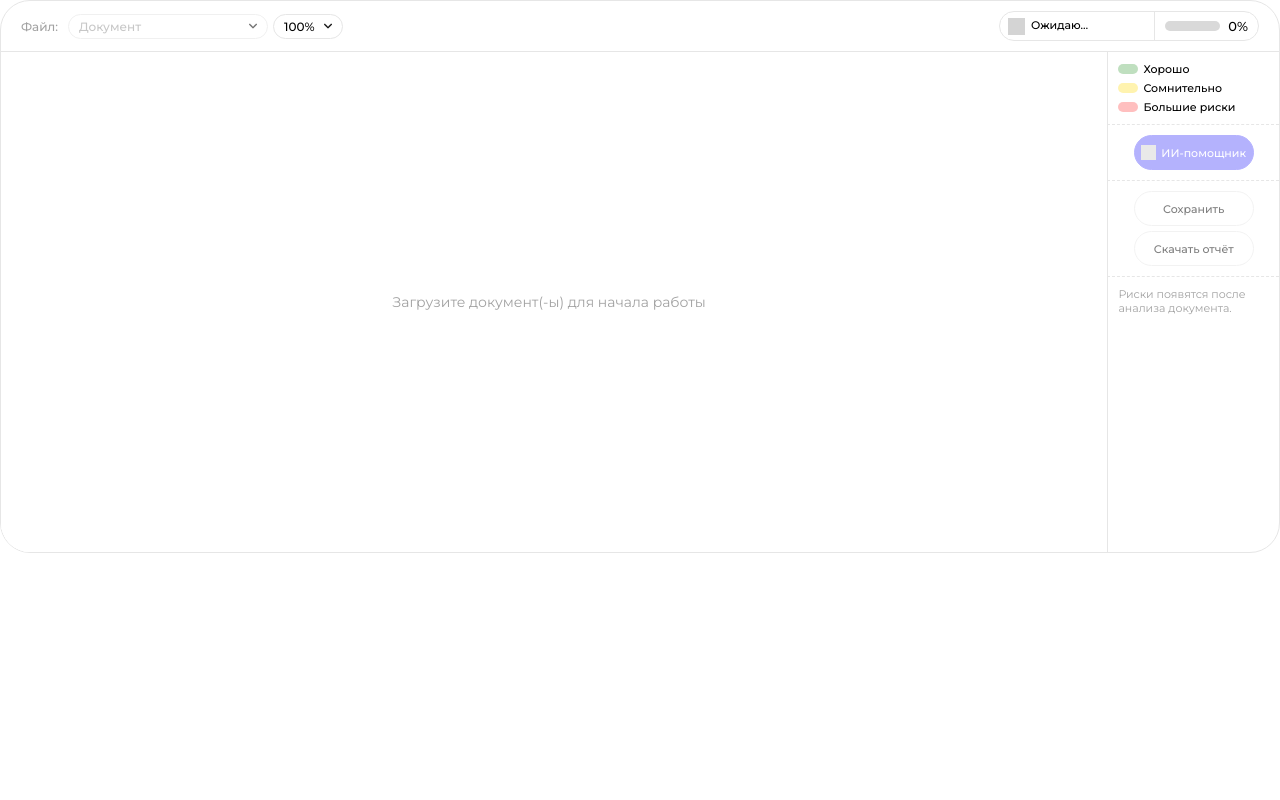
Test: AnalysisResult — размер текста › кнопка Сброс возвращает значение к 100% и сама дизейблится
This screenshot has width=1280, height=800.
Step 1. Click the element with class "analysis__font-size-selector" → point(308, 26), box x1=273 y1=14 x2=343 y2=38
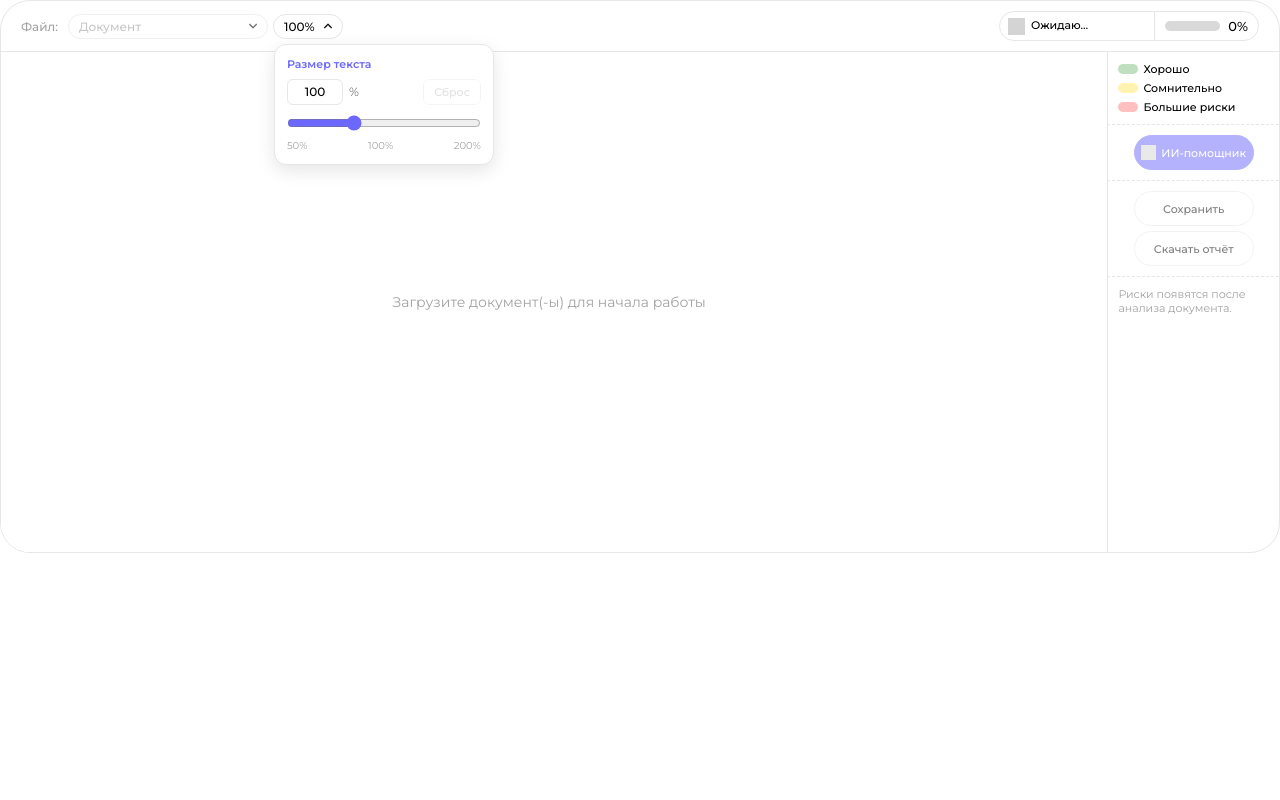
Step 2. Set the slider with class "font-size-popover__slider" to "150" → point(414, 122), box x1=287 y1=114 x2=481 y2=130
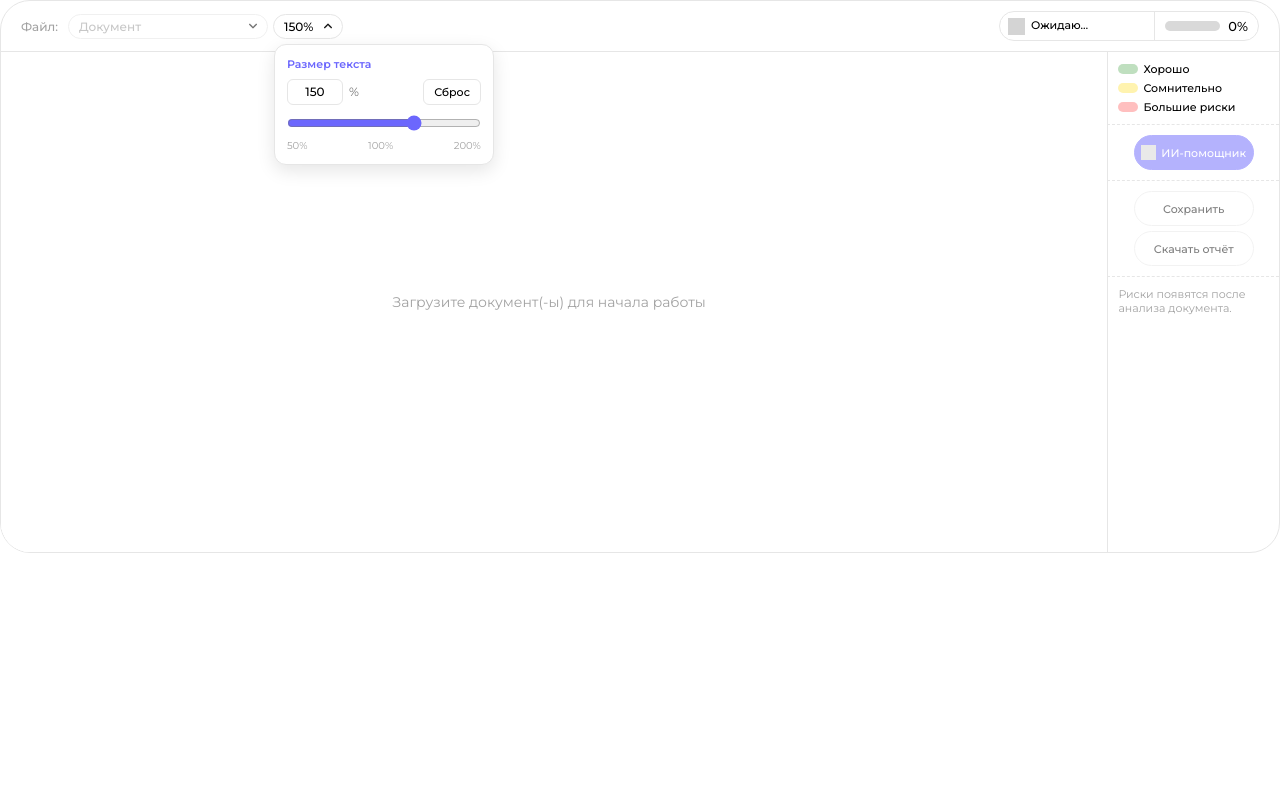
Result: the button with class "font-size-popover__reset" is enabled
Step 3. Click the button with class "font-size-popover__reset" → point(452, 92), box x1=423 y1=78 x2=481 y2=104
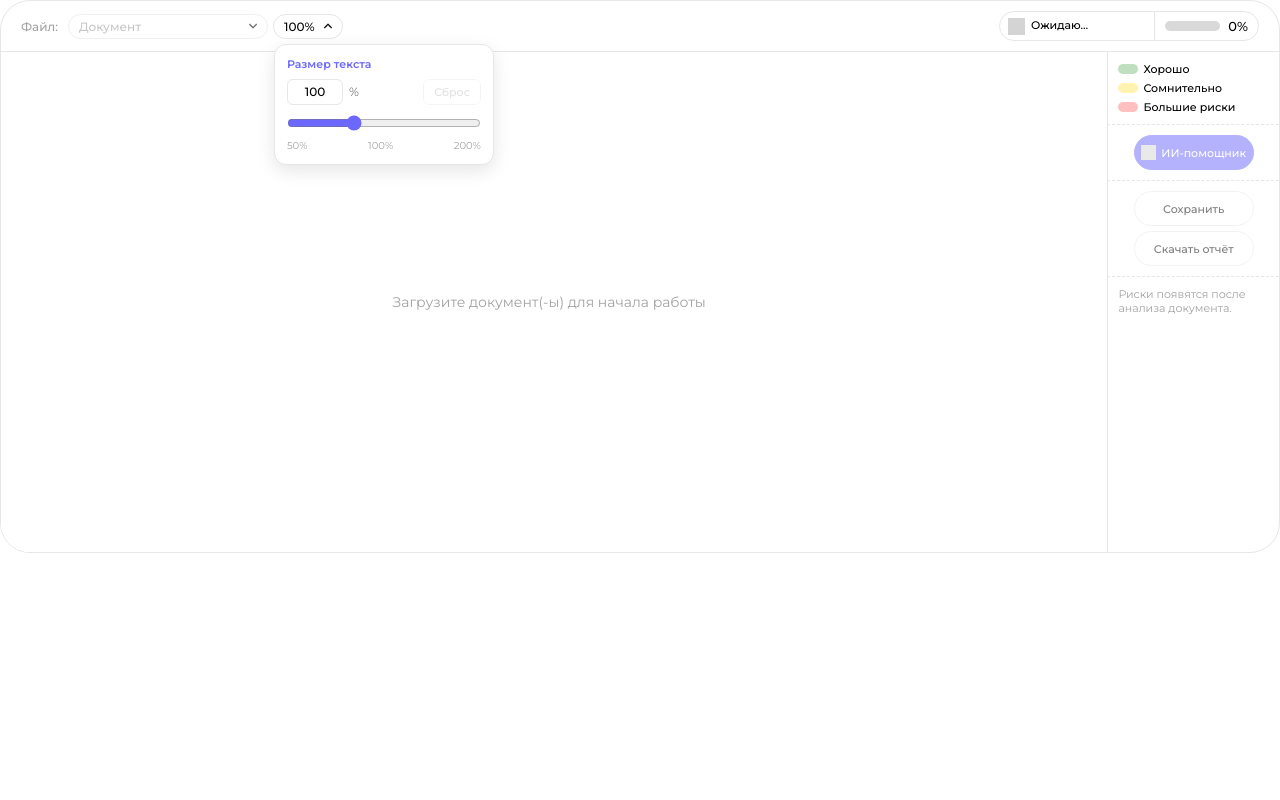
Result: the button with class "font-size-popover__reset" is disabled at x1=423 y1=78 x2=481 y2=104
